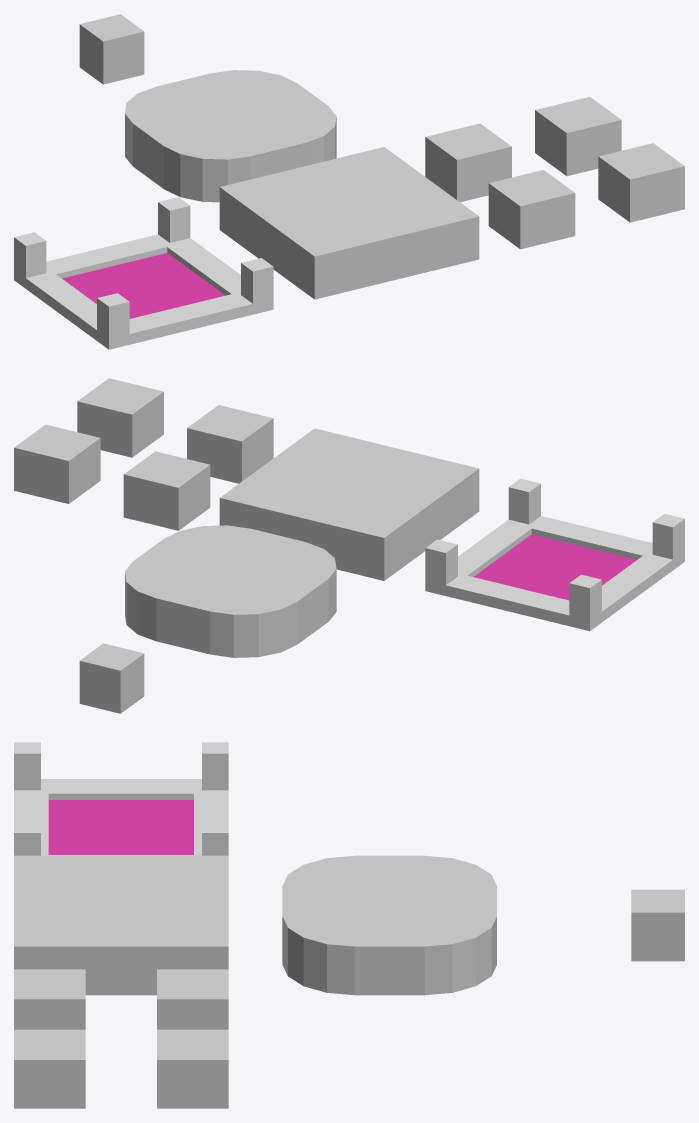
File: blocks.glb
3 renders of one model, top to bottom at view 1: azimuth 30°, elevation 25°; view 2: azimuth 150°, elevation 25°; view 3: azimuth 270°, elevation 25°, orthographic. The views are drawn at different scales.
Parts seen in each view (by area): view 1: Basic, BasicA, Park, Rounded, Little; view 2: Basic, Rounded, BasicA, Park, Little; view 3: Rounded, Basic, BasicA, Park, Little.
Part boxes in pixels (x1,y1,x2,y2): Basic: (219, 147, 479, 299); BasicA: (425, 96, 684, 249); Park: (14, 197, 273, 349); Rounded: (125, 70, 336, 202); Little: (79, 14, 144, 84); Basic: (219, 428, 479, 580); Rounded: (125, 525, 336, 657); BasicA: (14, 378, 273, 530); Park: (425, 478, 684, 631); Little: (79, 643, 144, 713); Rounded: (282, 855, 496, 995); Basic: (14, 855, 228, 995); BasicA: (14, 969, 228, 1108); Park: (14, 742, 228, 855); Little: (631, 889, 684, 961).
Bounding box in the file's own units: 2.8 × 0.2 × 2.5.
